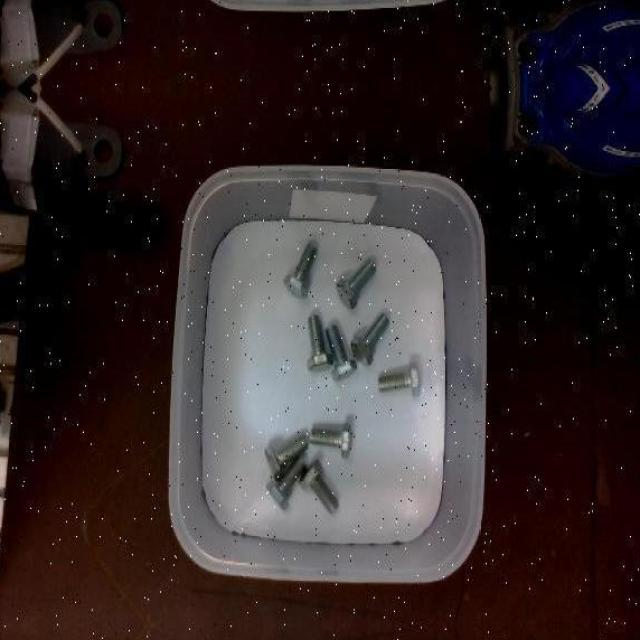screw: (350, 311, 390, 363), (264, 434, 308, 481), (300, 460, 339, 513), (265, 458, 303, 511), (283, 242, 318, 298), (336, 260, 376, 308), (324, 324, 356, 382), (378, 360, 421, 396), (306, 314, 332, 372), (311, 422, 352, 458)
